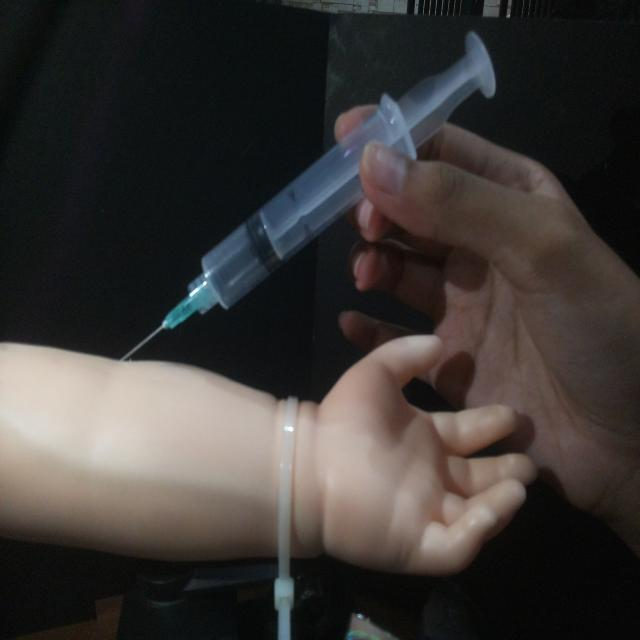30deg: (115, 27, 499, 364)
